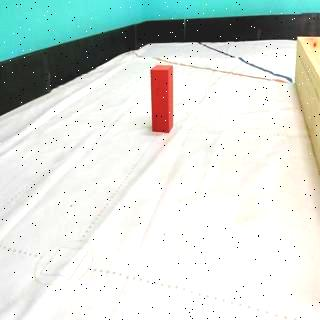redbox: (150, 64, 175, 132)
